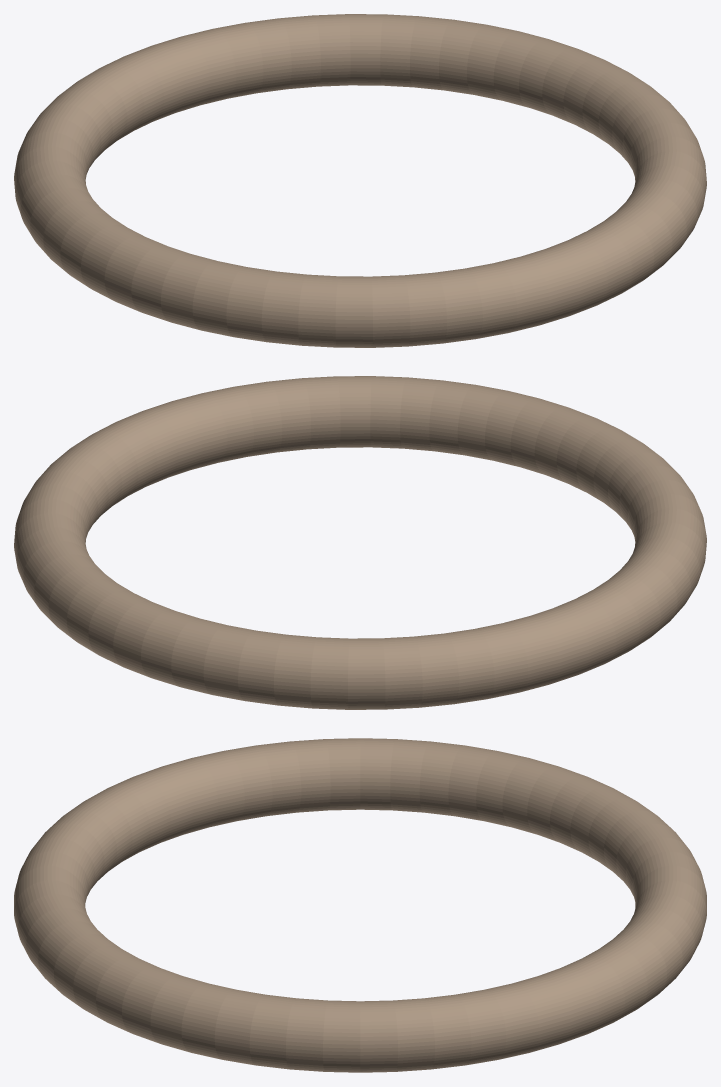
File: fuel-supply-coupling-seal.glb
3 views of the same model, one above another, from view 1: azimuth 30°, elevation 25°; view 2: azimuth 150°, elevation 25°; view 3: azimuth 270°, elevation 25° (orthographic).
Parts seen in each view (by area): view 1: world; view 2: world; view 3: world.
Boxes of the visible parts, x1,y1,x2,y2 form: world: [14, 14, 706, 347]; world: [14, 376, 706, 709]; world: [14, 738, 706, 1072].
Size of the model in its own units: 0.0126 by 0.0013 by 0.0126.
